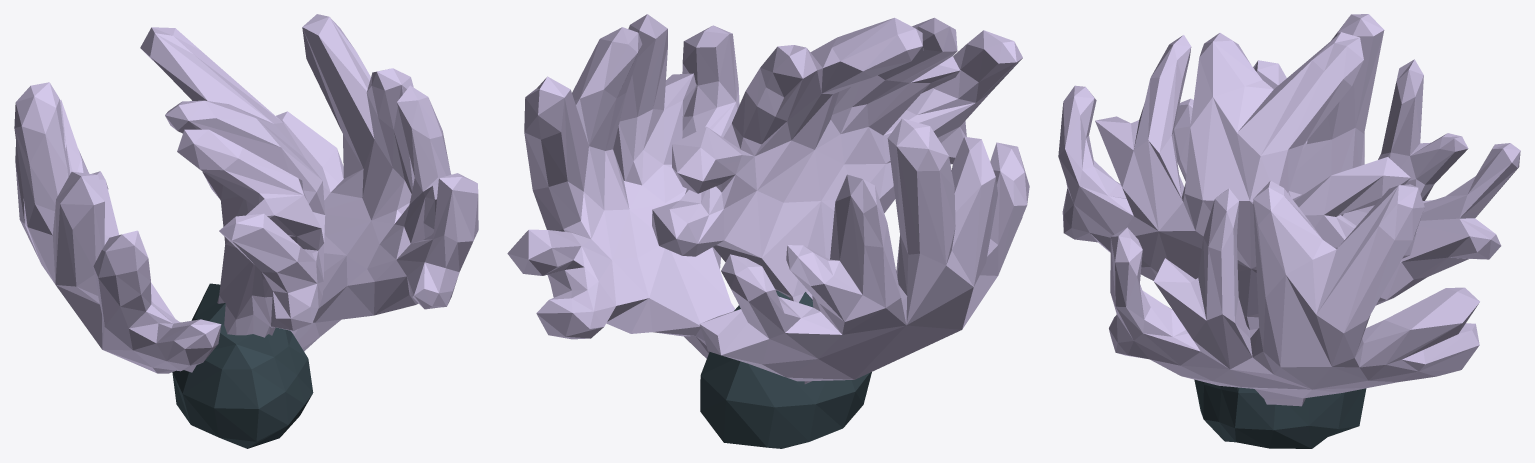
File: Coral_013.glb
3 views of the same model, side by side, from view 1: azimuth 30°, elevation 25°; view 2: azimuth 150°, elevation 25°; view 3: azimuth 270°, elevation 25° (orthographic). The views are drawn at different scales.
Parts seen in each view (by area): view 1: Coral_013; view 2: Coral_013; view 3: Coral_013.
Part boxes in pixels (x1,y1,x2,y2): Coral_013: (14, 14, 478, 448); Coral_013: (507, 14, 1029, 448); Coral_013: (1058, 14, 1520, 448).
Bounding box in the file's own units: 0.5021 × 0.487 × 0.5367.
Materials: 1 (1 with a texture image).
